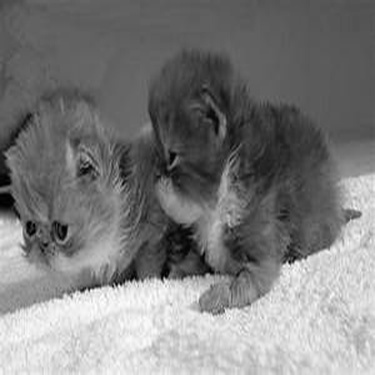cat: (144, 45, 361, 316), (1, 100, 214, 281)
